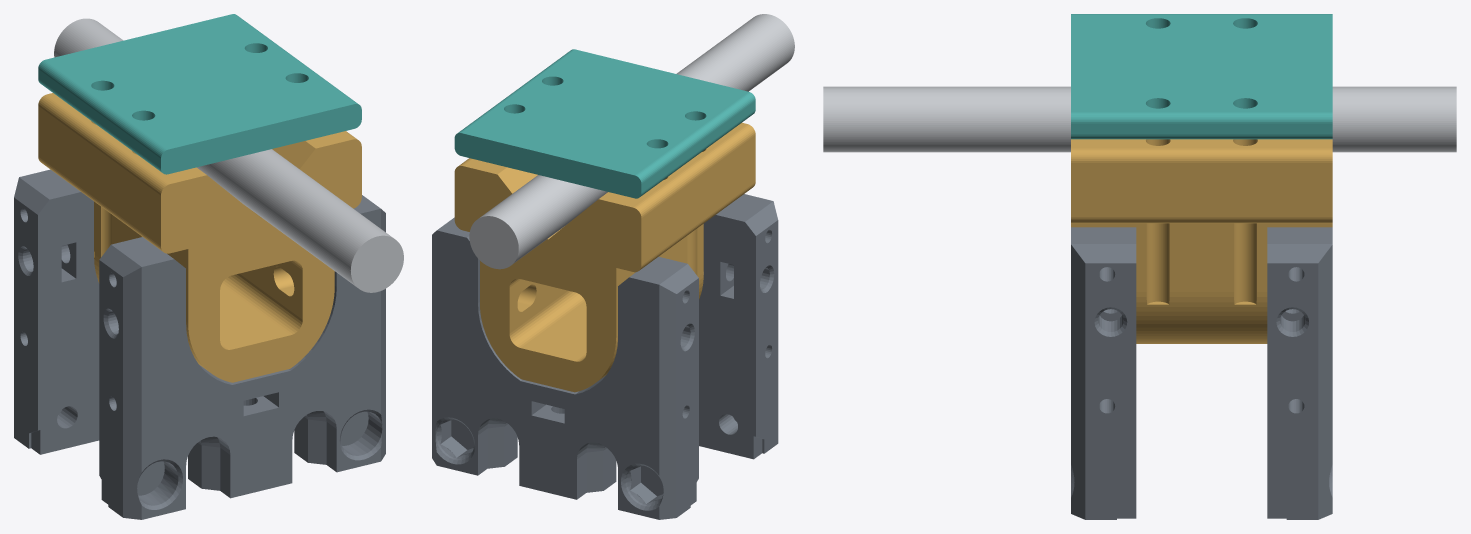
Rendered from assembly_reference.glb.
3 views of the same model, side by side, from view 1: azimuth 30°, elevation 25°; view 2: azimuth 150°, elevation 25°; view 3: azimuth 270°, elevation 25° (orthographic). The views are drawn at different scales.
Visible parts, largest first — view 1: Original_upper_fork, Fork_adapter, Pressure_cap, Original_lower_fork, Barrel_reference_9mm; view 2: Original_lower_fork, Fork_adapter, Pressure_cap, Original_upper_fork, Barrel_reference_9mm; view 3: Fork_adapter, Pressure_cap, Barrel_reference_9mm, Original_upper_fork, Original_lower_fork.
Part boxes in pixels (x1,y1,x2,y2): Original_upper_fork: [99, 195, 385, 519]; Fork_adapter: [38, 93, 361, 382]; Pressure_cap: [38, 14, 361, 174]; Original_lower_fork: [14, 169, 99, 454]; Barrel_reference_9mm: [54, 18, 403, 292]; Original_lower_fork: [432, 217, 698, 519]; Fork_adapter: [454, 122, 755, 392]; Pressure_cap: [454, 49, 755, 198]; Original_upper_fork: [699, 194, 778, 459]; Barrel_reference_9mm: [469, 14, 794, 269]; Fork_adapter: [1071, 139, 1332, 343]; Pressure_cap: [1071, 14, 1332, 139]; Barrel_reference_9mm: [823, 86, 1456, 152]; Original_upper_fork: [1071, 227, 1136, 519]; Original_lower_fork: [1267, 227, 1332, 519].
Bounding box in the file's own units: 44.5 × 58.86 × 87.
